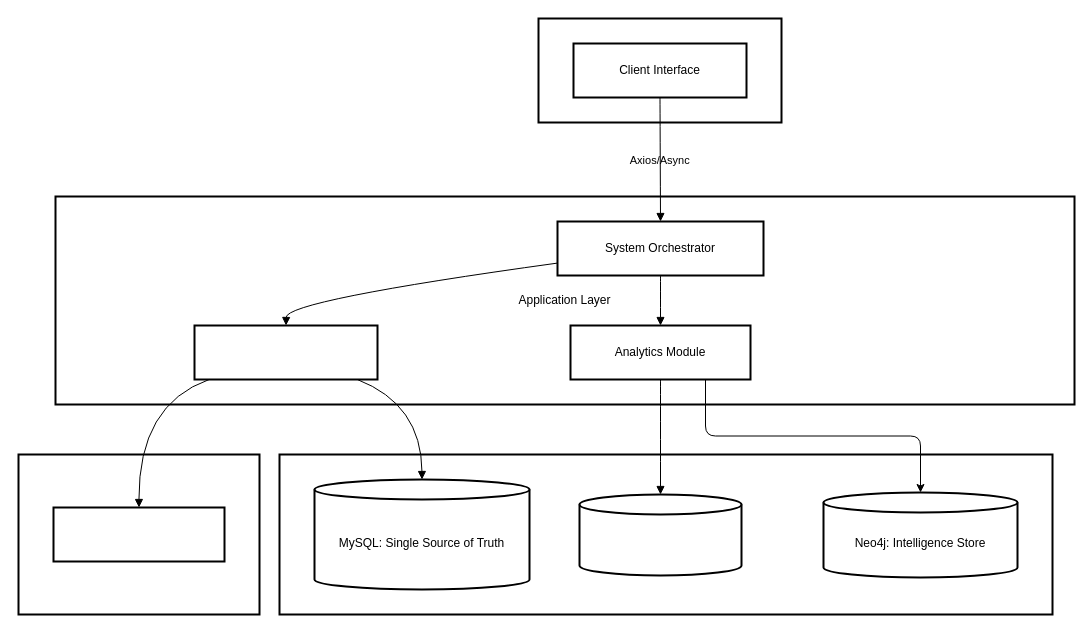
Image size: 1092x632. Some labels were removed from this diagram. Each missing label, with the box of its shape:
Cloudinary CDN: (52, 506, 225, 562)
Data Layer: Polyglot Persistence: (278, 453, 1053, 615)
Inventory Module: (193, 324, 378, 380)
MongoDB: Flex Store: (578, 493, 742, 576)
